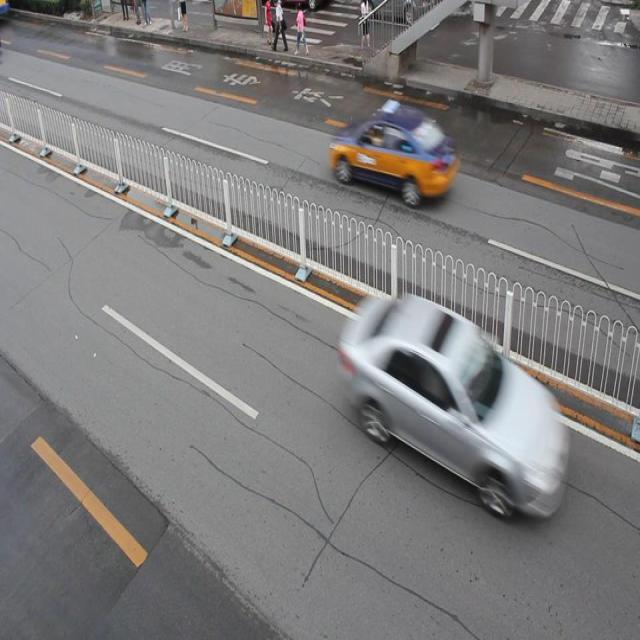car: (342, 294, 568, 518), (331, 102, 459, 204)
